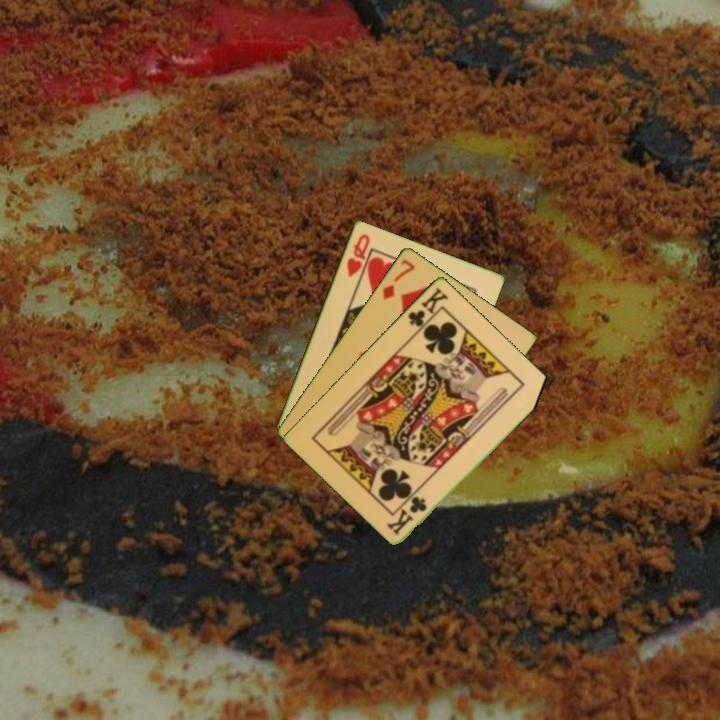7d: (379, 255, 418, 302)
Kc: (404, 283, 451, 335), (385, 493, 430, 538)
Qh: (343, 230, 373, 279)
